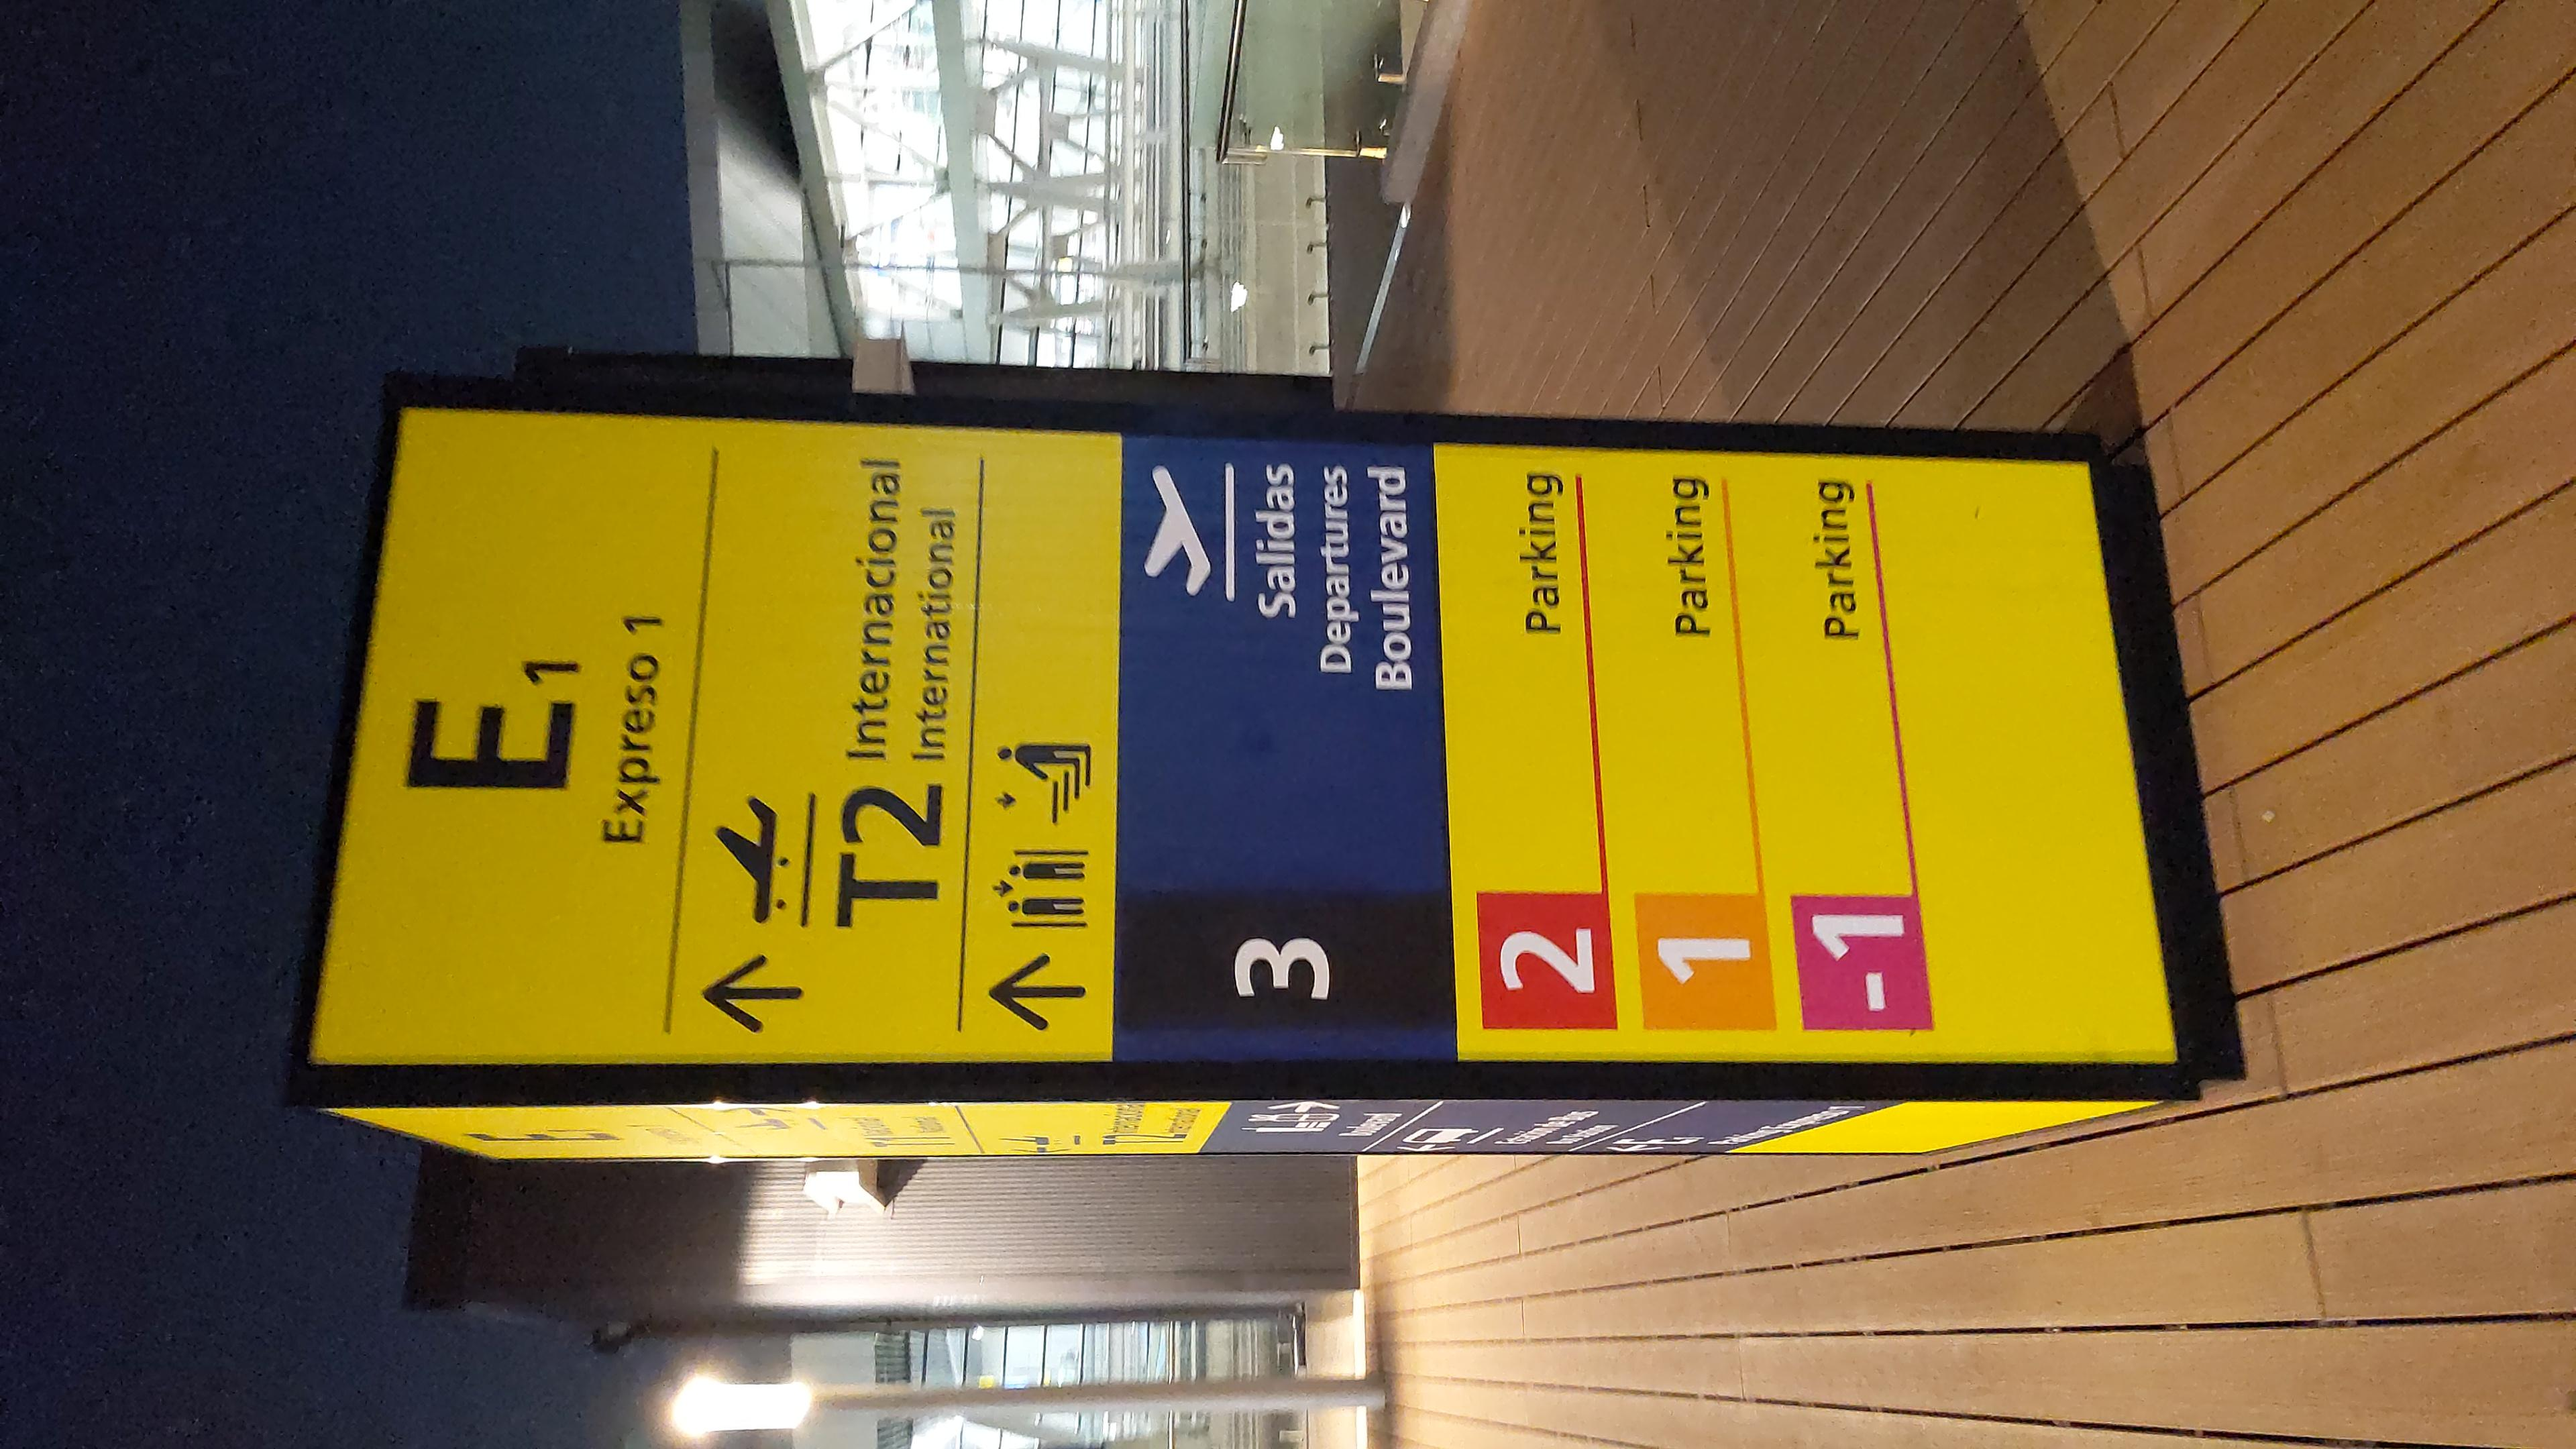airplane symbol: (929, 396, 1175, 448), (1518, 644, 1757, 681)
thin up arrow: (740, 393, 893, 456), (734, 554, 895, 614)
